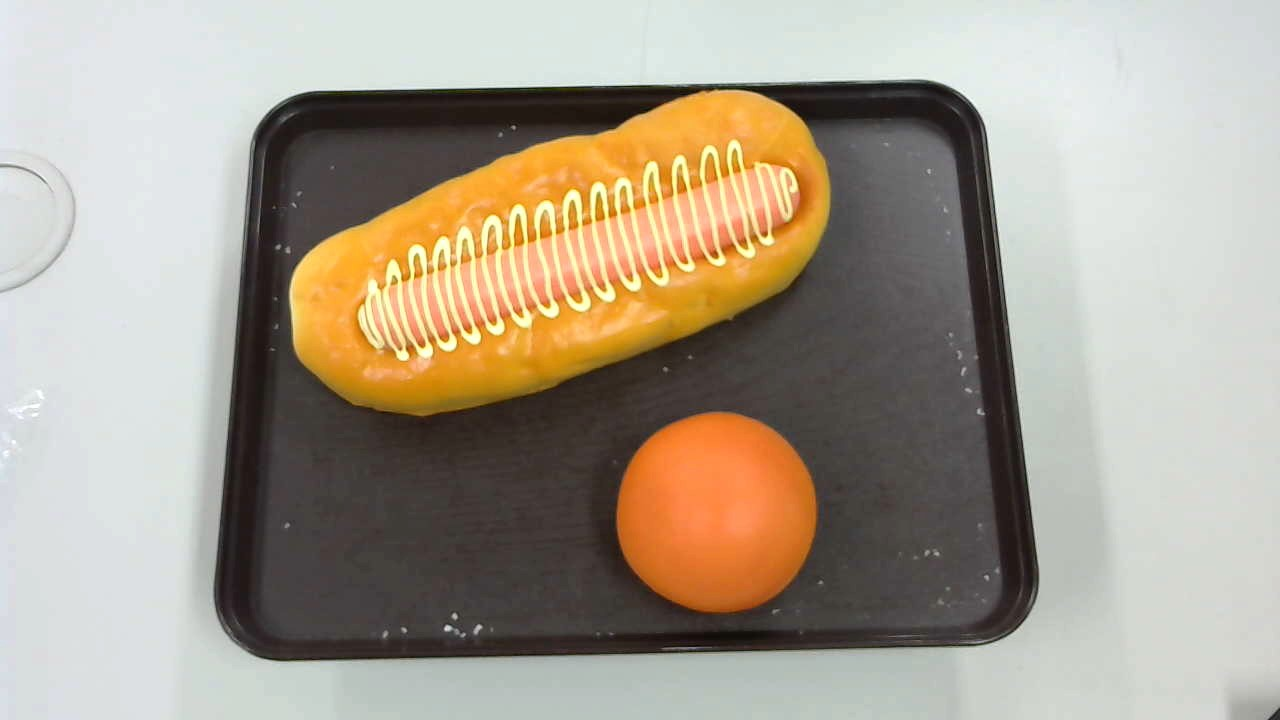bun: (615, 408, 817, 614)
hot dog: (288, 88, 831, 416)
